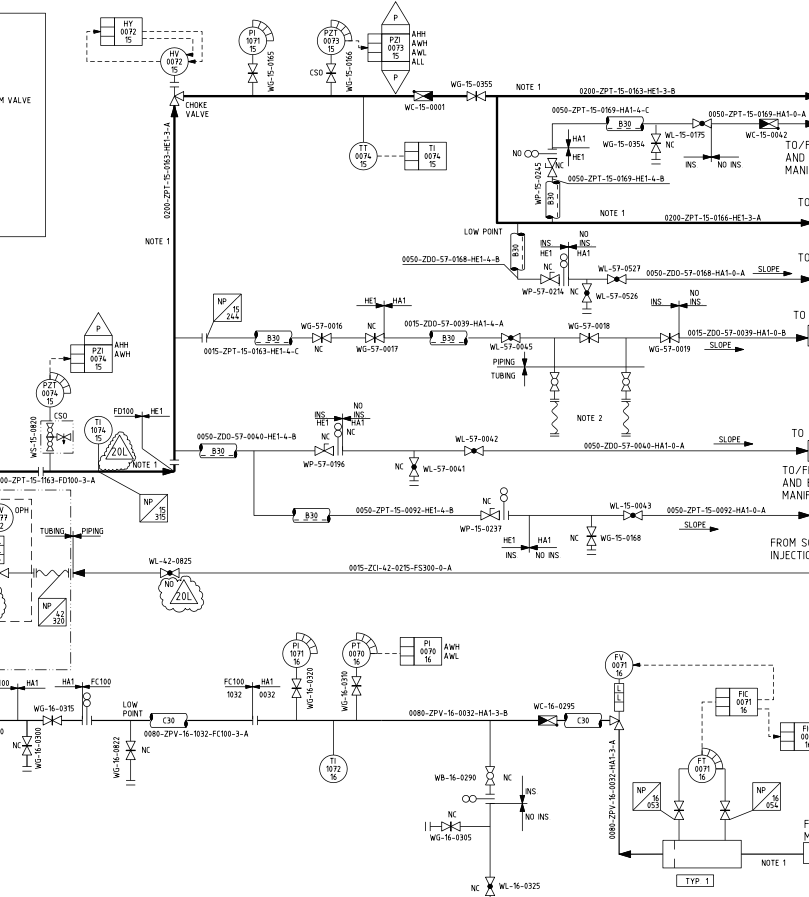Instrument: (345, 131, 379, 180), (600, 644, 639, 684), (680, 749, 722, 785), (337, 631, 373, 672), (31, 374, 70, 411), (278, 634, 314, 671), (157, 41, 194, 77), (318, 745, 351, 785), (82, 412, 116, 447), (234, 23, 269, 56), (312, 25, 348, 56)
Instrument-square: (713, 681, 764, 723), (96, 8, 147, 49), (361, 27, 412, 65), (403, 629, 447, 672), (403, 136, 449, 174), (75, 337, 117, 378)
